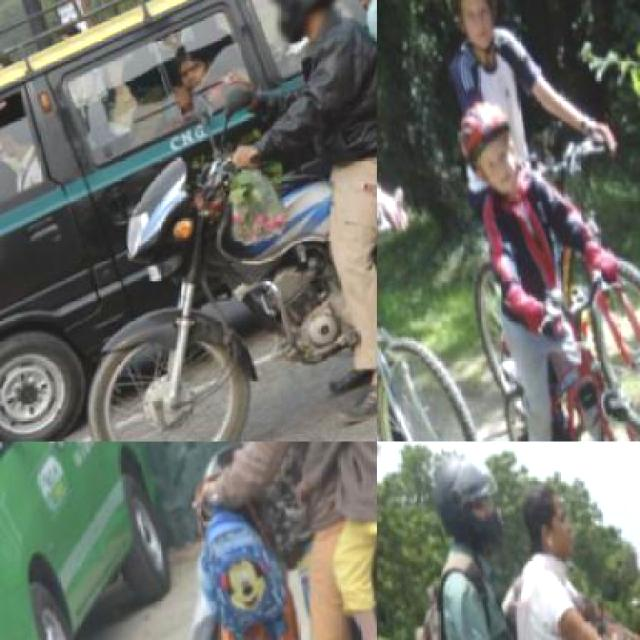With Helmet: (416, 442, 524, 584), (444, 97, 534, 218), (248, 0, 362, 62), (432, 0, 514, 66)
Without Helmet: (507, 466, 601, 592)
